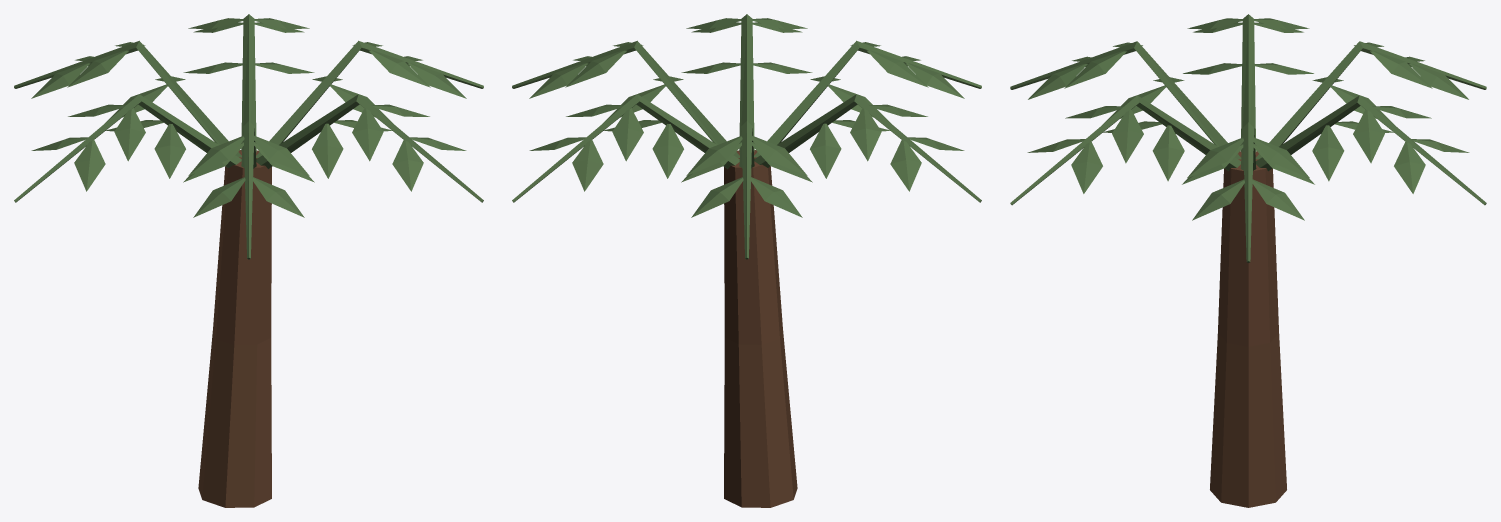
File: Plant_Feature_Forest_TreeFern_001_LOD1.glb
The picture shows the model from 3 angles, left to right: view 1: azimuth 30°, elevation 25°; view 2: azimuth 150°, elevation 25°; view 3: azimuth 270°, elevation 25°; orthographic projection.
Visible parts, largest first — view 1: Plant_Feature_Forest_TreeFern_001_LOD1; view 2: Plant_Feature_Forest_TreeFern_001_LOD1; view 3: Plant_Feature_Forest_TreeFern_001_LOD1.
Boxes of the visible parts, x1=… form: Plant_Feature_Forest_TreeFern_001_LOD1: x1=14, y1=14, x2=483, y2=507; Plant_Feature_Forest_TreeFern_001_LOD1: x1=512, y1=14, x2=981, y2=507; Plant_Feature_Forest_TreeFern_001_LOD1: x1=1010, y1=14, x2=1486, y2=507.
Bounding box in the file's own units: 3.41 × 2.95 × 2.96.
